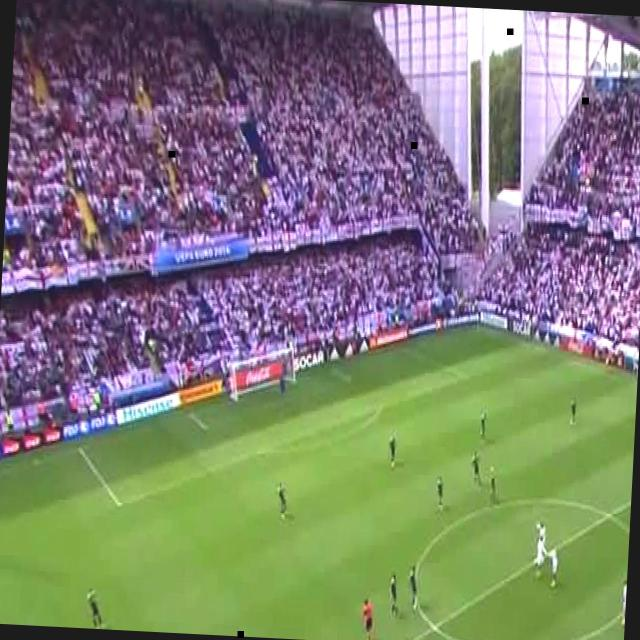player-white: (85, 588, 107, 630), (275, 482, 295, 524), (548, 546, 561, 588), (407, 564, 419, 609), (388, 573, 400, 616), (360, 597, 372, 640), (535, 536, 547, 574), (470, 449, 482, 484), (388, 430, 398, 470), (536, 519, 546, 557), (621, 576, 627, 626), (489, 466, 497, 499), (436, 476, 444, 509), (279, 363, 287, 395), (570, 397, 577, 425), (480, 406, 486, 437)
